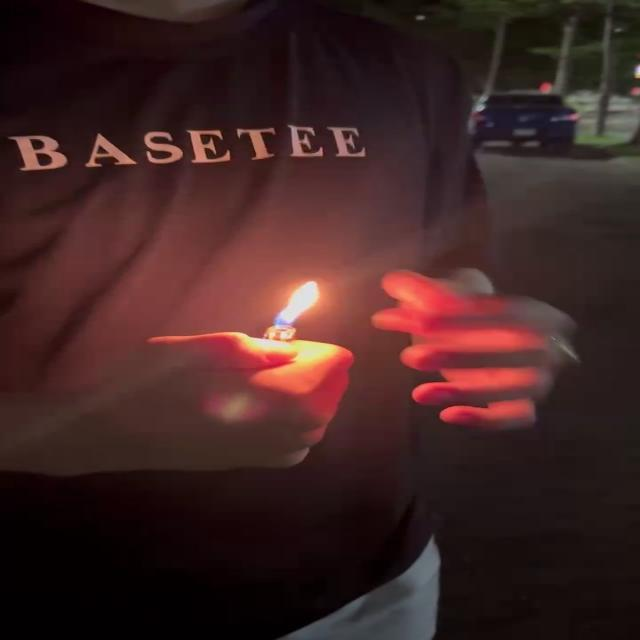Fire: (272, 279, 325, 329)
